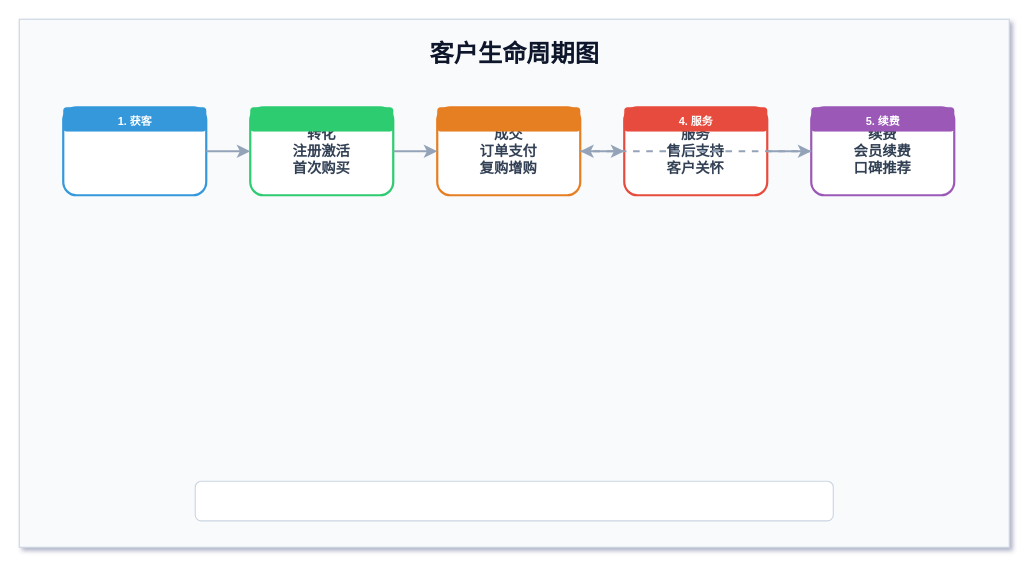
Image size: 1035x573. Some labels were removed from this diagram. Each missing label, with the box of its shape:
2. 转化: (250, 107, 393, 131)
3. 成交: (437, 107, 580, 131)
图例：🔵获客 🟢转化 🟠成交 🔴服务 🟣续费 虚线=复购循环: (194, 480, 833, 521)
获客 渠道推广 流量获取: (62, 106, 207, 196)
